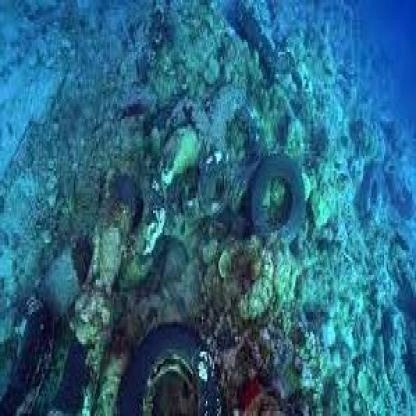tire: (122, 317, 230, 416), (241, 144, 317, 268)
